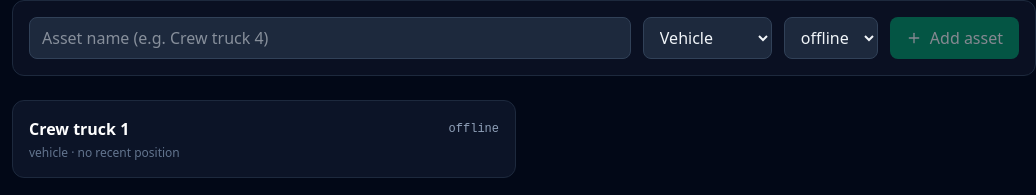
Scenario: AssetsPanel › disables the add-asset submit button until a name is entered
Check: the button "Add asset" is disabled, box [890,17,1019,59]
Type "Crew truck 2" into the field named "New asset name" at coordinates (330, 38), box [29,17,631,59]
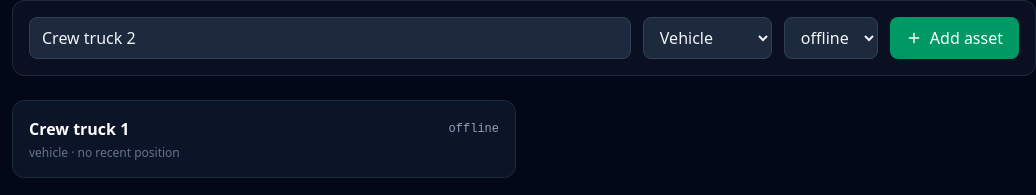
Check: the button "Add asset" is enabled, box [890,17,1019,59]
